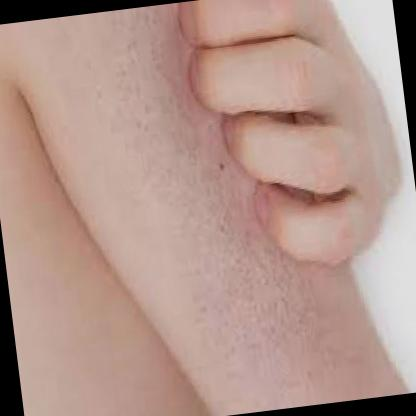Chicken Skin: (193, 204, 298, 351)
